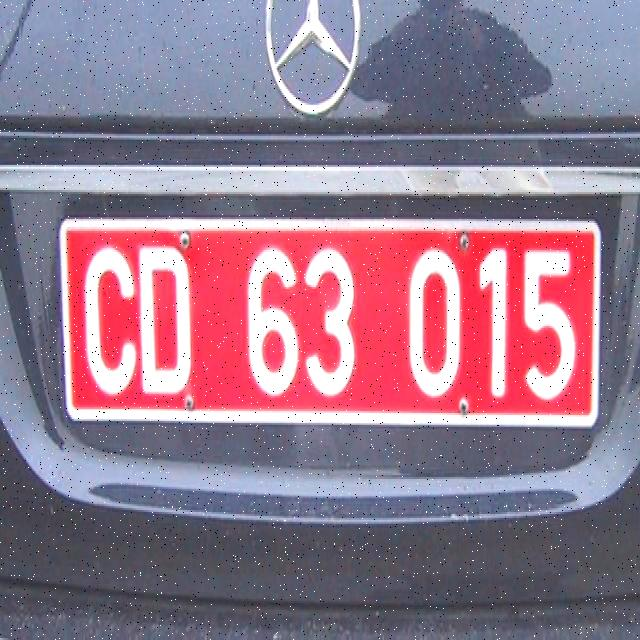licenseplate: (40, 174, 621, 472)
